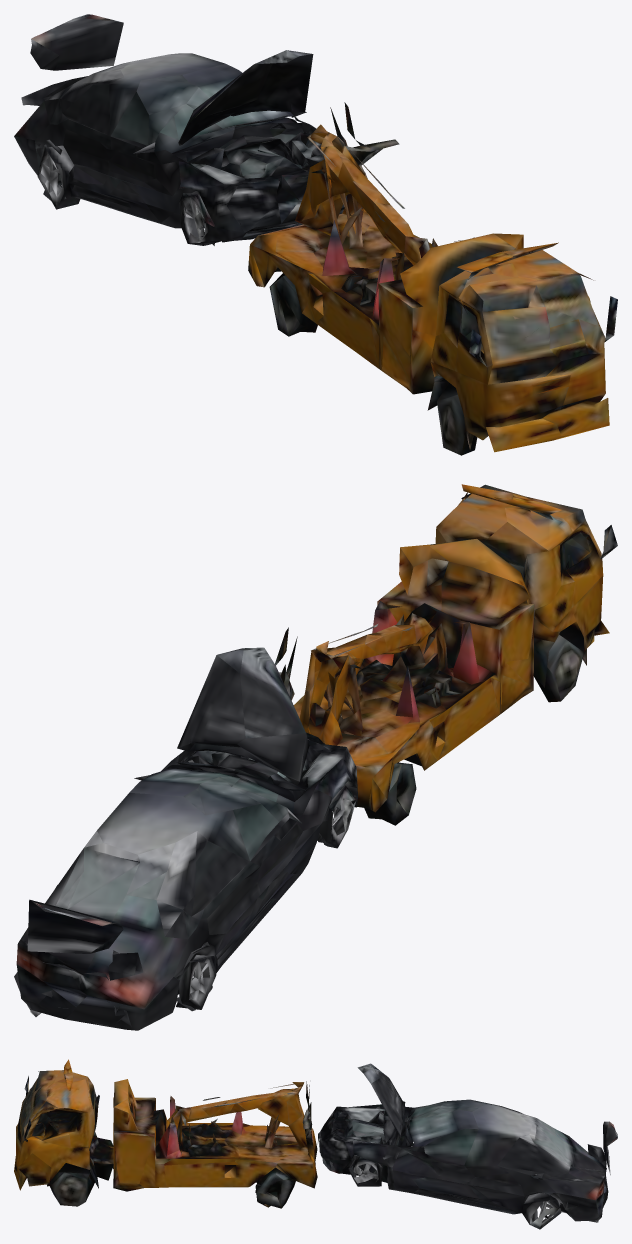
The model's file is derek_plus_mobil_lod2.glb.
3 renders of one model, top to bottom at view 1: azimuth 30°, elevation 25°; view 2: azimuth 150°, elevation 25°; view 3: azimuth 270°, elevation 25°, orthographic. The views are drawn at different scales.
Visible parts, largest first — view 1: tripo_node_c9e404f8; view 2: tripo_node_c9e404f8; view 3: tripo_node_c9e404f8.
Boxes of the visible parts, bbox=[...] form: tripo_node_c9e404f8: bbox=[14, 14, 617, 455]; tripo_node_c9e404f8: bbox=[14, 484, 617, 1030]; tripo_node_c9e404f8: bbox=[14, 1059, 617, 1229].
Bounding box in the file's own units: 40.37 × 53.19 × 199.
Materials: 2 (2 with a texture image).
